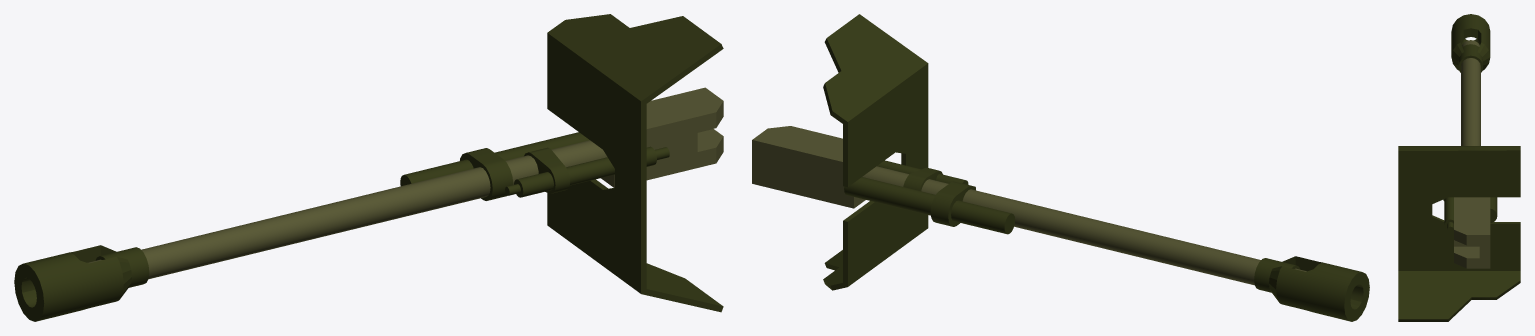
The model's file is gun.obj.
3 renders of one model, left to right at view 1: azimuth 30°, elevation 25°; view 2: azimuth 150°, elevation 25°; view 3: azimuth 270°, elevation 25°, orthographic. The views are drawn at different scales.
Visible parts, largest first — view 1: gun bl25 polySurface1, gun bl25 pCylinder1, gun bl25 polySurface3, gun bl25 polySurface4, gun bl25 pCylinder5, gun bl25 pCylinder6, gun bl25 pCylinder9, pCylinder11 gun bl25, gun bl25 pCylinder3; view 2: gun bl25 polySurface1, gun bl25 pCylinder1, gun bl25 polySurface4, gun bl25 polySurface3, gun bl25 pCylinder6, gun bl25 pCylinder9, gun bl25 pCylinder3, pCylinder11 gun bl25, gun bl25 pCylinder5; view 3: gun bl25 polySurface1, gun bl25 polySurface4, gun bl25 pCylinder1, gun bl25 polySurface3, gun bl25 pCylinder3, gun bl25 pCylinder5, gun bl25 pCylinder6.
Part boxes in pixels (x1=…): gun bl25 polySurface1: x1=547, y1=14, x2=723, y2=312; gun bl25 pCylinder1: x1=87, y1=140, x2=607, y2=279; gun bl25 polySurface3: x1=14, y1=245, x2=131, y2=321; gun bl25 polySurface4: x1=601, y1=87, x2=723, y2=187; gun bl25 pCylinder5: x1=514, y1=146, x2=656, y2=197; gun bl25 pCylinder6: x1=400, y1=132, x2=589, y2=186; gun bl25 pCylinder9: x1=460, y1=148, x2=513, y2=200; pCylinder11 gun bl25: x1=524, y1=147, x2=570, y2=193; gun bl25 pCylinder3: x1=95, y1=247, x2=149, y2=287; gun bl25 polySurface1: x1=823, y1=14, x2=928, y2=290; gun bl25 pCylinder1: x1=862, y1=166, x2=1306, y2=285; gun bl25 polySurface4: x1=752, y1=126, x2=865, y2=208; gun bl25 polySurface3: x1=1269, y1=256, x2=1369, y2=321; gun bl25 pCylinder6: x1=844, y1=177, x2=1015, y2=234; gun bl25 pCylinder9: x1=930, y1=181, x2=975, y2=226; gun bl25 pCylinder3: x1=1254, y1=258, x2=1299, y2=292; pCylinder11 gun bl25: x1=903, y1=167, x2=942, y2=190; gun bl25 pCylinder5: x1=877, y1=160, x2=968, y2=184; gun bl25 polySurface1: x1=1398, y1=146, x2=1520, y2=321; gun bl25 polySurface4: x1=1454, y1=197, x2=1490, y2=268; gun bl25 pCylinder1: x1=1461, y1=40, x2=1480, y2=145; gun bl25 polySurface3: x1=1451, y1=14, x2=1490, y2=70; gun bl25 pCylinder3: x1=1458, y1=44, x2=1483, y2=72; gun bl25 pCylinder5: x1=1444, y1=197, x2=1453, y2=229; gun bl25 pCylinder6: x1=1490, y1=197, x2=1497, y2=222.
Bounding box in the file's own units: 14.27 × 5.3 × 3.36.
